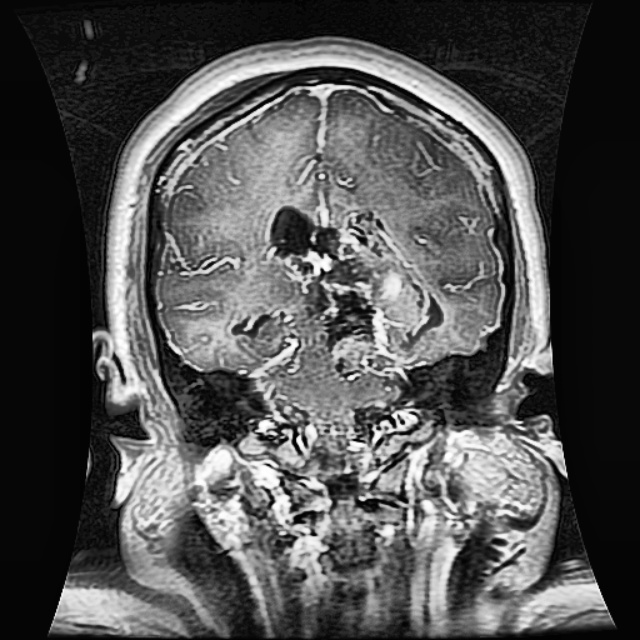Meningioma: (267, 205, 439, 379)
